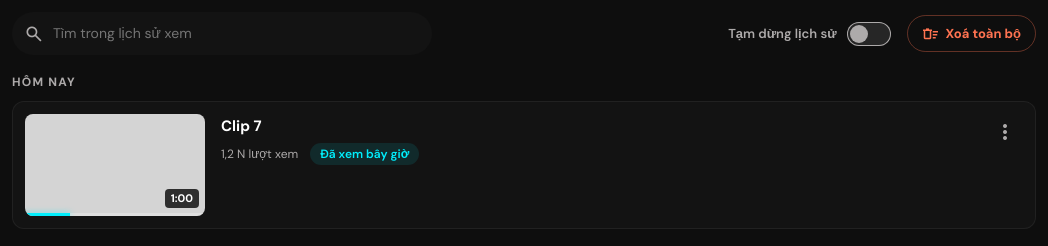
it: WatchHistorySection › the ⋮ menu removes one entry
Click the button named "Tuỳ chọn cho Clip 7" at (1005, 132), box [987, 114, 1023, 150]
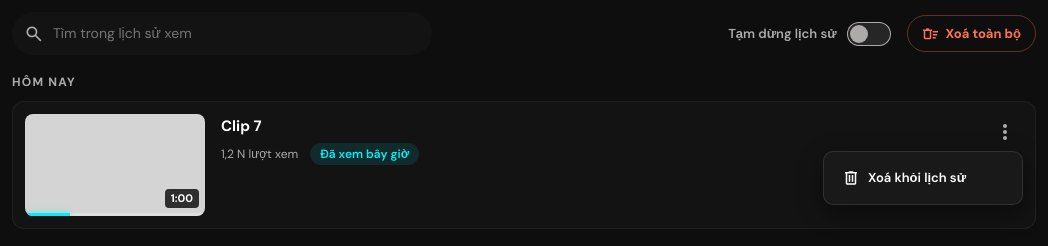
Click the menu item "Xoá khỏi lịch sử" at (923, 178), box [830, 158, 1016, 198]
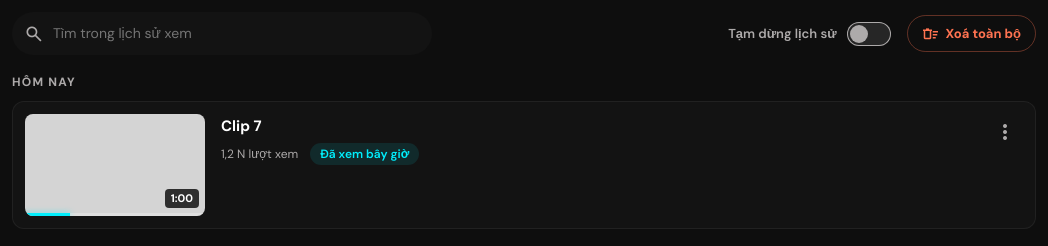
Expected: the menu is gone
